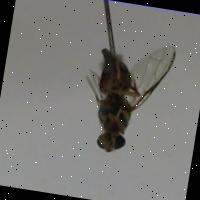Oriental-fruit-fly: (68, 24, 184, 167)
